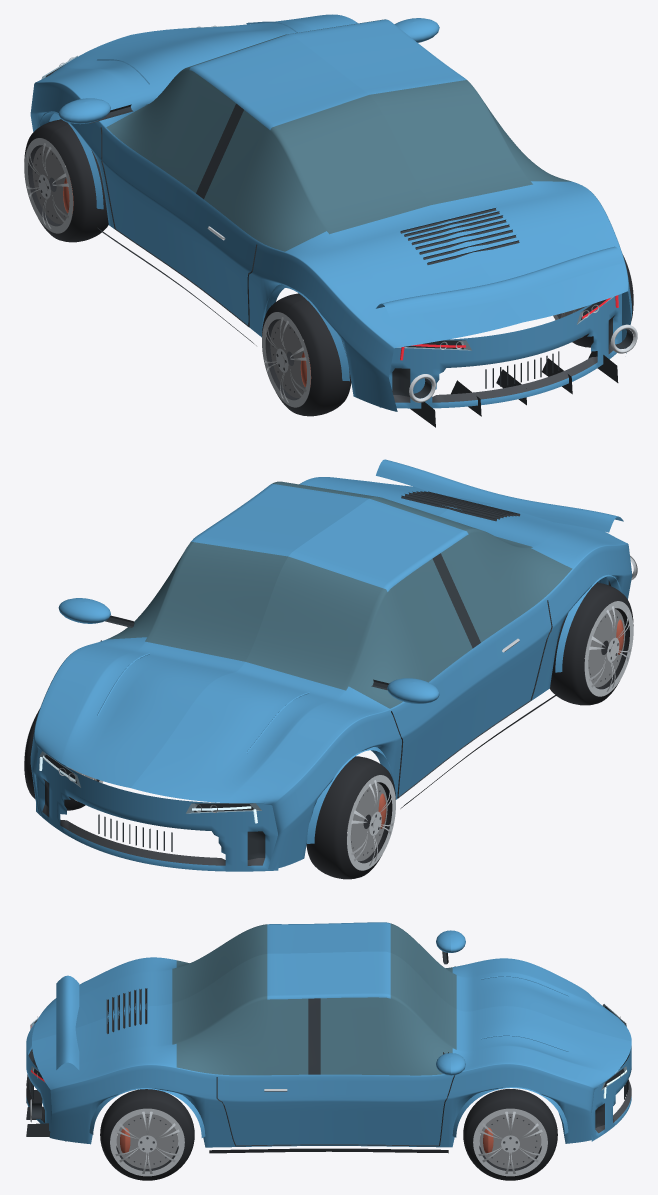
The model's file is falcon_s1.glb.
The picture shows the model from 3 angles, top to bottom: view 1: azimuth 30°, elevation 25°; view 2: azimuth 150°, elevation 25°; view 3: azimuth 270°, elevation 25°; orthographic projection. The views are drawn at different scales.
Visible parts, largest first — view 1: Body, Wheel_2, Wheel_0; view 2: Body, Wheel_0, Wheel_2, Wheel_1; view 3: Body, Wheel_1, Wheel_3.
Part boxes in pixels (left/top/right/bottom): Body: left=30, top=14, right=637, bottom=427; Wheel_2: left=262, top=293, right=351, bottom=416; Wheel_0: left=24, top=119, right=108, bottom=242; Body: left=30, top=459, right=637, bottom=871; Wheel_0: left=306, top=756, right=395, bottom=879; Wheel_2: left=550, top=582, right=633, bottom=705; Wheel_1: left=24, top=709, right=103, bottom=810; Body: left=26, top=922, right=631, bottom=1154; Wheel_1: left=463, top=1089, right=557, bottom=1180; Wheel_3: left=100, top=1089, right=194, bottom=1180.
Bounding box in the file's own units: 2.32 × 1.34 × 4.39.
